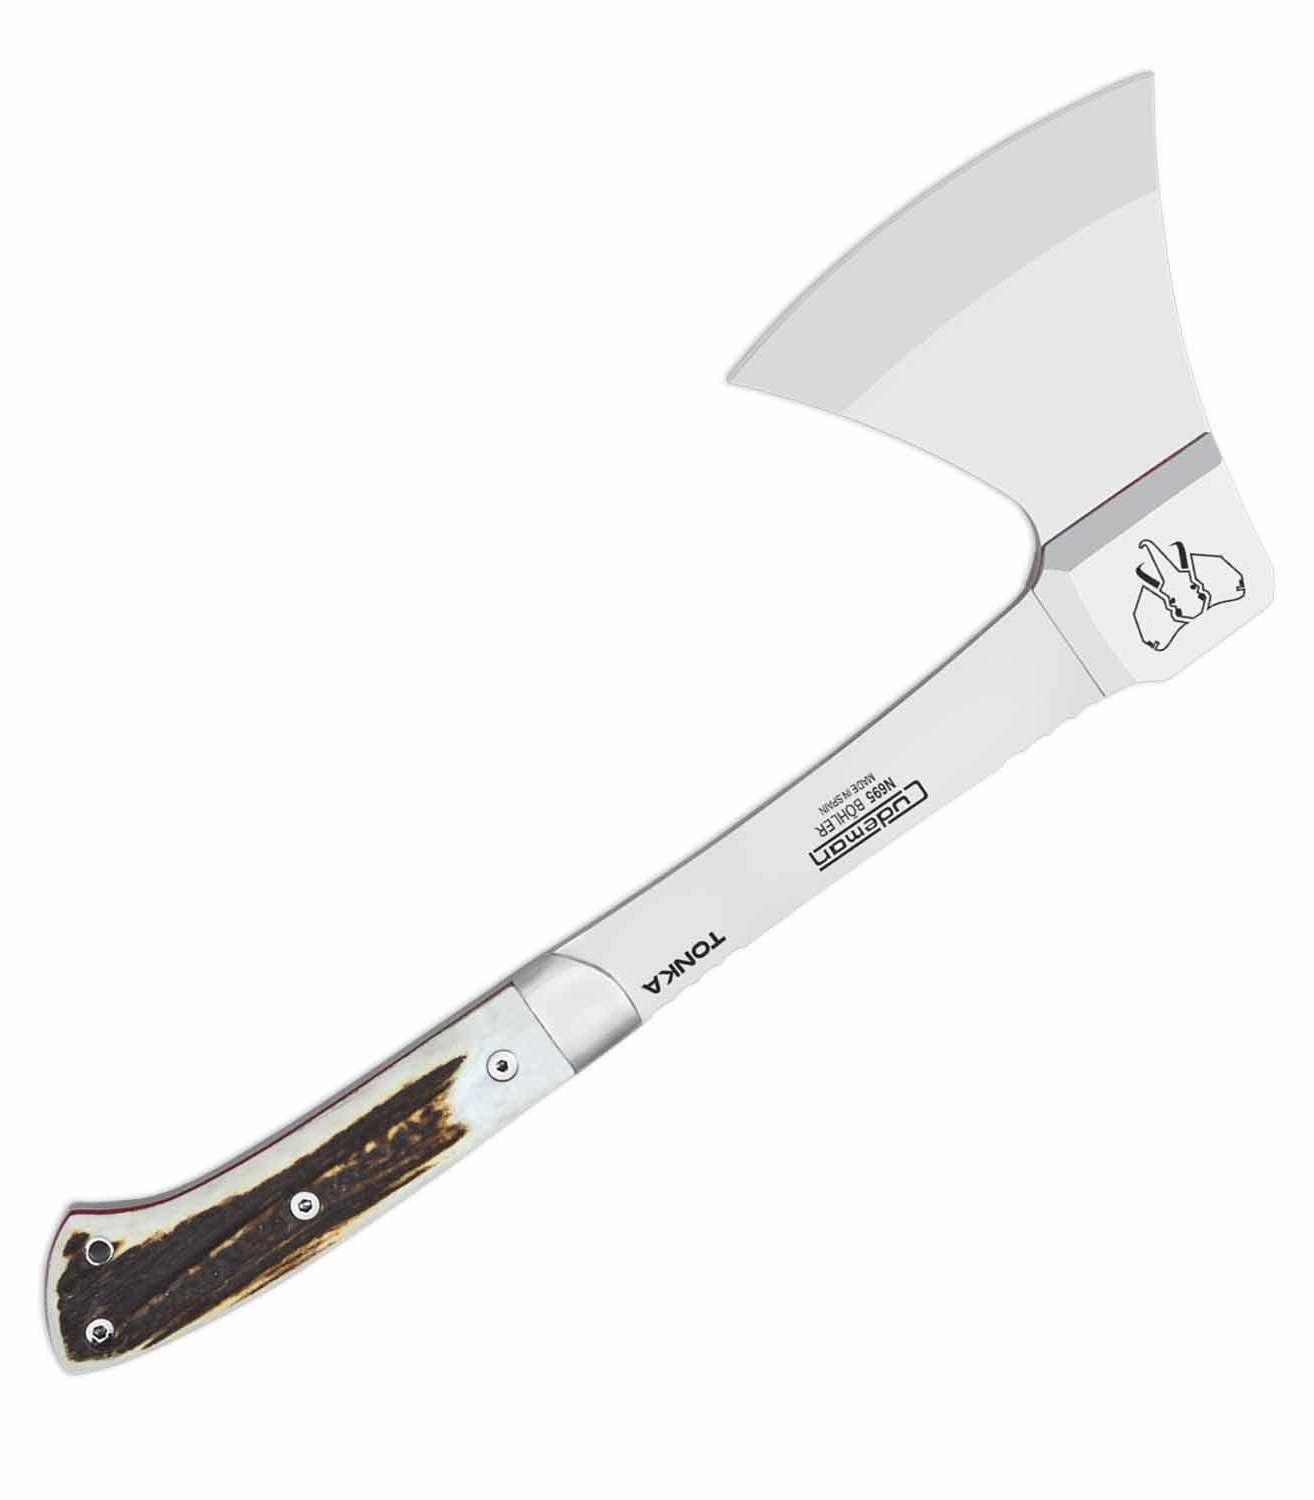machado: (45, 73, 1273, 1372)
